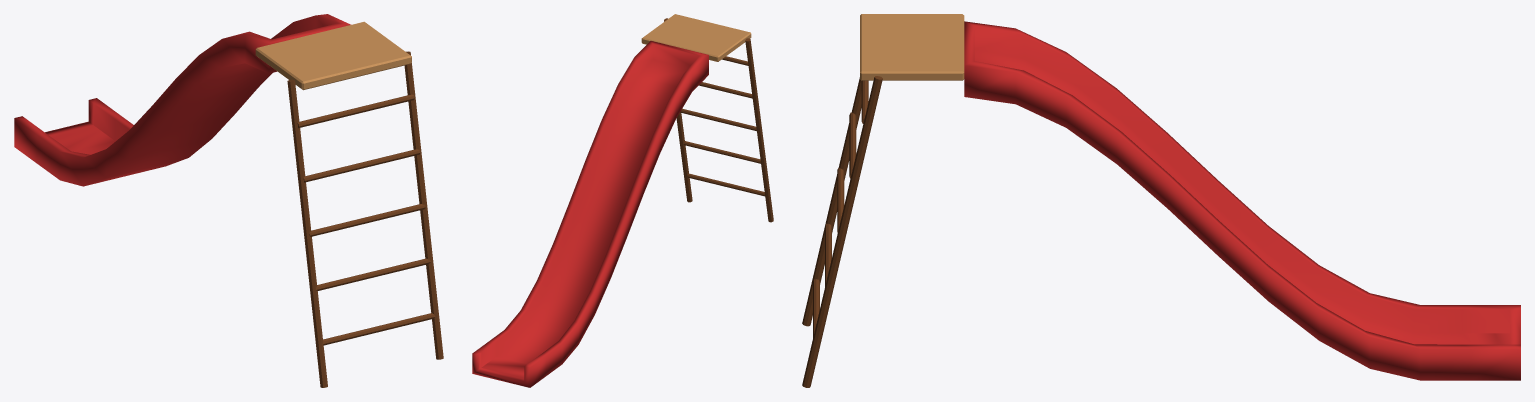
Rendered from Slide.fbx.
3 renders of one model, left to right at view 1: azimuth 30°, elevation 25°; view 2: azimuth 150°, elevation 25°; view 3: azimuth 270°, elevation 25°, orthographic. The views are drawn at different scales.
Parts seen in each view (by area): view 1: csuszda; view 2: csuszda; view 3: csuszda.
Part boxes in pixels (x1,y1,x2,y2): csuszda: [14, 14, 443, 387]; csuszda: [472, 14, 773, 387]; csuszda: [802, 14, 1520, 387].
Bounding box in the file's own units: 0.89 × 2 × 4.13.
Materials: 1 (1 with a texture image).
